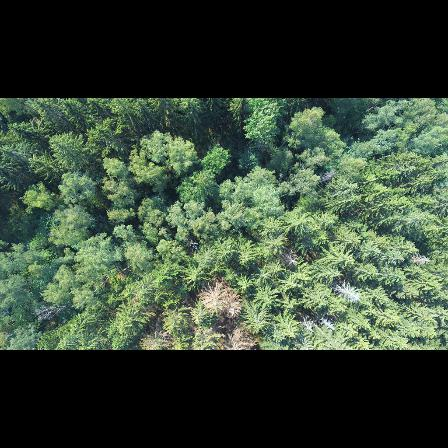Dead: (196, 276, 241, 318), (332, 280, 364, 305), (407, 249, 434, 267), (280, 249, 301, 271), (319, 167, 336, 187), (318, 313, 334, 332)
